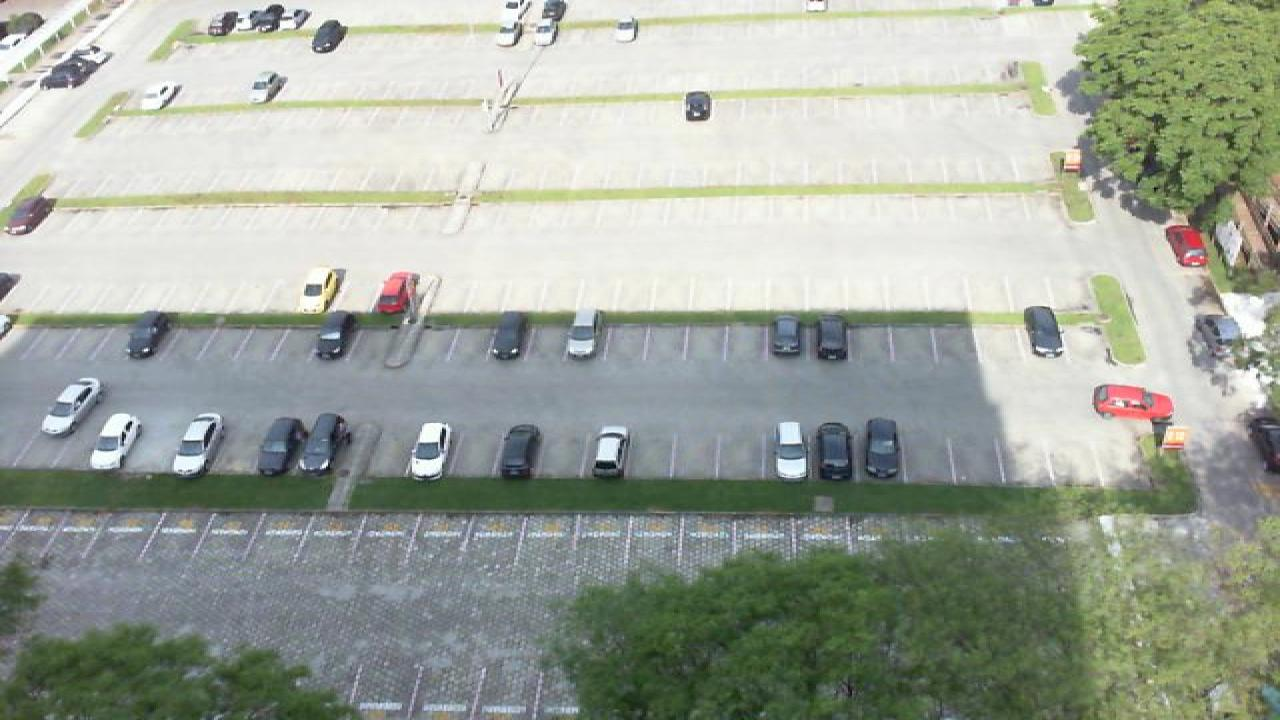Car: (40, 378, 102, 436), (168, 412, 222, 476), (88, 411, 142, 470), (256, 416, 306, 477), (1092, 384, 1176, 420), (1188, 314, 1244, 368), (298, 412, 346, 472), (404, 422, 452, 479), (496, 424, 540, 480), (42, 52, 108, 89), (862, 418, 902, 478), (812, 421, 852, 480), (310, 309, 354, 361), (588, 425, 630, 479), (1022, 305, 1064, 359), (772, 421, 810, 480), (296, 267, 340, 315), (2, 194, 52, 236), (486, 309, 526, 361), (562, 308, 600, 360), (126, 310, 166, 359), (1164, 225, 1208, 268), (372, 271, 416, 314), (814, 315, 850, 360), (770, 314, 804, 359), (246, 72, 286, 106), (310, 19, 348, 54), (138, 81, 180, 110), (246, 4, 286, 33), (204, 9, 238, 37), (684, 90, 712, 123), (494, 14, 522, 46), (536, 0, 568, 25), (532, 19, 556, 46), (614, 16, 638, 42), (282, 9, 310, 31)
